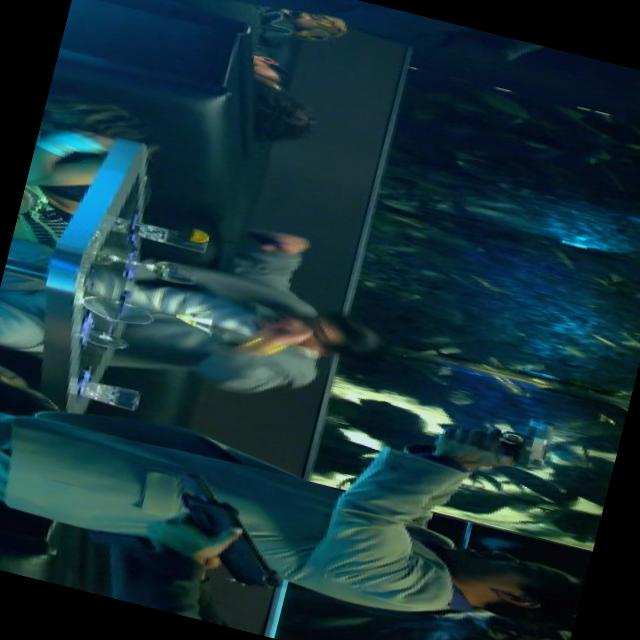handgun: (429, 402, 558, 474)
